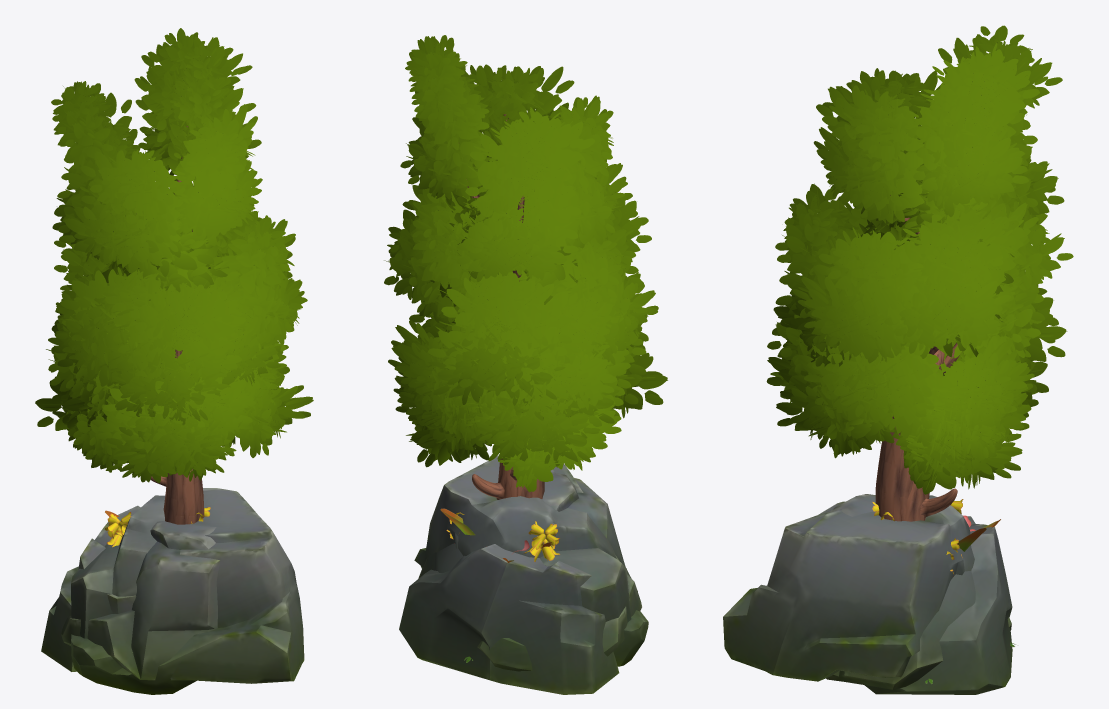
Rendered from nature.glb.
3 renders of one model, left to right at view 1: azimuth 30°, elevation 25°; view 2: azimuth 150°, elevation 25°; view 3: azimuth 270°, elevation 25°, orthographic. The views are drawn at different scales.
Visible parts, largest first — view 1: CommonTree_3_part0, CommonTree_1_part0, Rock_Medium_3_part0, Rock_Medium_1_part0, CommonTree_5_part0, Rock_Medium_2_part0, Flower_4_Group_part0; view 2: CommonTree_3_part0, CommonTree_1_part0, Rock_Medium_2_part0, CommonTree_5_part0, Rock_Medium_3_part0, Rock_Medium_1_part0, Flower_4_Group_part0; view 3: CommonTree_3_part0, CommonTree_1_part0, Rock_Medium_3_part0, CommonTree_5_part0, Rock_Medium_2_part0, Rock_Medium_1_part0.
Part boxes in pixels (x1,y1,x2,y2): CommonTree_3_part0: (51, 28, 307, 524); CommonTree_1_part0: (35, 179, 313, 482); Rock_Medium_3_part0: (71, 488, 304, 694); Rock_Medium_1_part0: (61, 521, 220, 680); CommonTree_5_part0: (52, 240, 285, 486); Rock_Medium_2_part0: (41, 505, 140, 671); Flower_4_Group_part0: (105, 507, 210, 547); CommonTree_3_part0: (388, 35, 651, 498); CommonTree_1_part0: (384, 185, 667, 490); Rock_Medium_2_part0: (399, 544, 619, 694); CommonTree_5_part0: (409, 202, 646, 499); Rock_Medium_3_part0: (414, 455, 648, 666); Rock_Medium_1_part0: (418, 472, 641, 671); Flower_4_Group_part0: (446, 512, 559, 561); CommonTree_3_part0: (772, 25, 1064, 521); CommonTree_1_part0: (766, 165, 1067, 497); Rock_Medium_3_part0: (723, 495, 974, 681); CommonTree_5_part0: (783, 202, 1073, 521); Rock_Medium_2_part0: (864, 516, 1012, 694); Rock_Medium_1_part0: (818, 494, 1011, 689).
Bounding box in the file's own units: 4.31 × 9.43 × 4.81.
27 materials, 27 textured.
